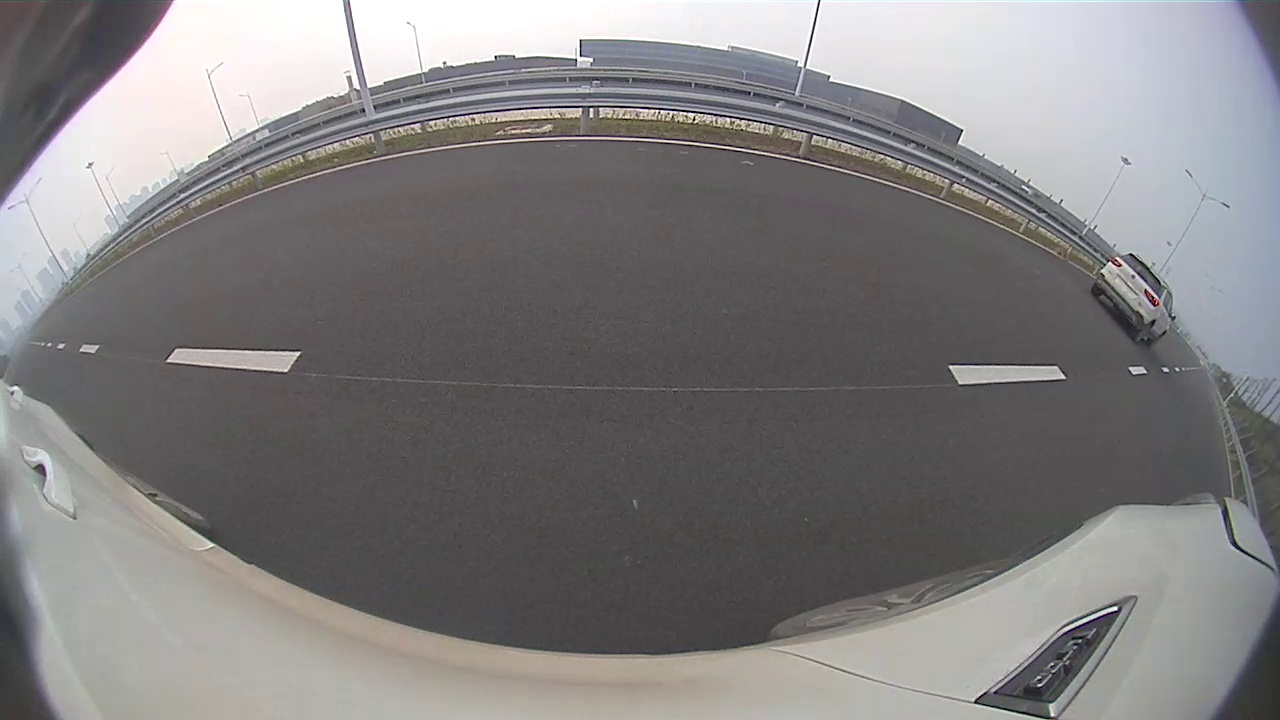car: (1092, 251, 1176, 343)
